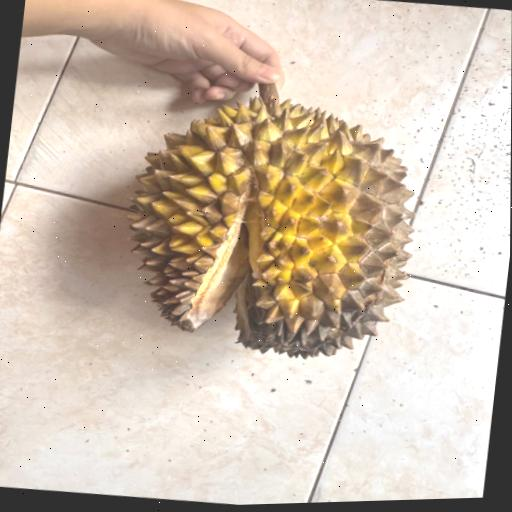rot: (73, 42, 461, 427)
